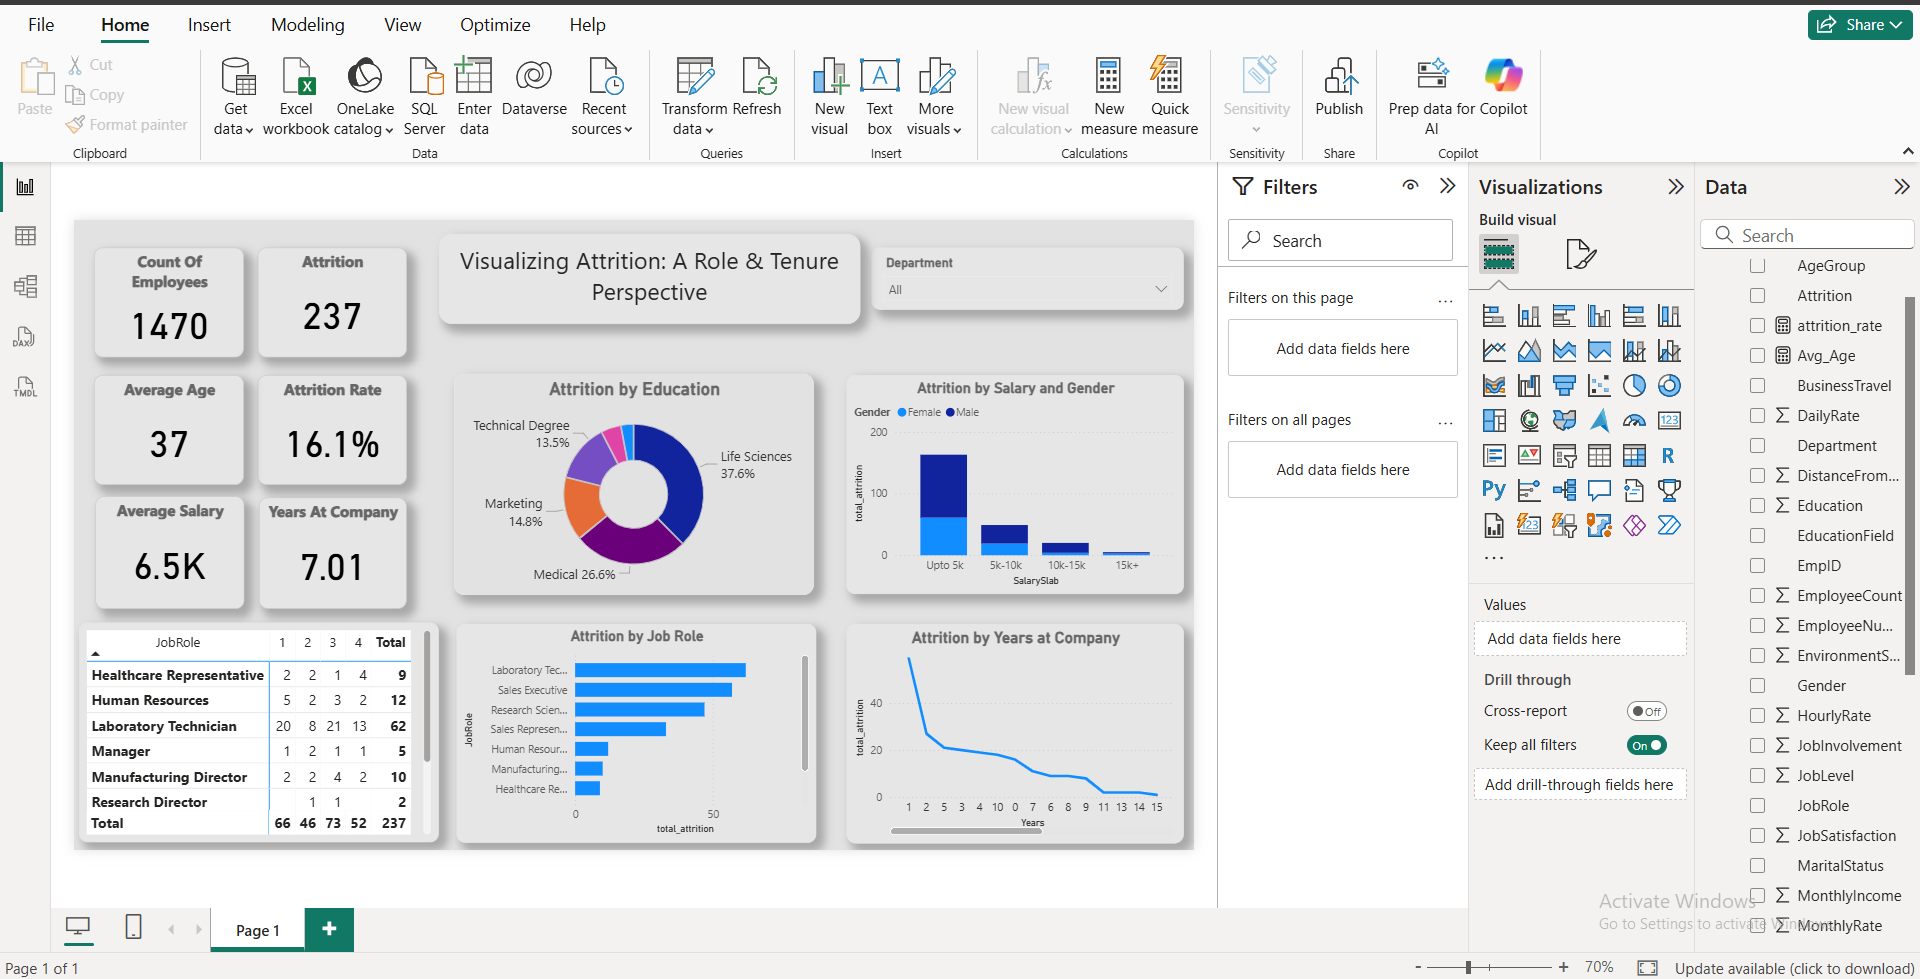

This screenshot's page, from the dashboard's own definition file:
{"tool":"powerbi","page":{"name":"Page 1","canvas":[1280,720],"ordinal":0},"visuals":[{"type":"card","title":"Count Of Employees","fields":{"Values":["Sum(HR_Analytics.EmployeeCount)"]},"box":[22.9,31.4,171.4,125.7],"z":0},{"type":"card","title":"Attrition","fields":{"Values":["HR_Analytics.total_attrition"]},"box":[210,31.4,170,125.7],"z":1000},{"type":"card","title":"Attrition Rate","fields":{"Values":["HR_Analytics.attrition_rate"]},"box":[210,177.1,170,125.7],"z":2000},{"type":"card","title":"Average Age","fields":{"Values":["HR_Analytics.Avg_Age"]},"box":[22.9,177.1,171.4,125.7],"z":3000},{"type":"card","title":"Average Salary","fields":{"Values":["Avg(HR_Analytics.MonthlyIncome)"]},"box":[24.3,315.7,170,128.6],"z":4000},{"type":"card","title":"Years At Company","fields":{"Values":["Avg(HR_Analytics.YearsAtCompany)"]},"box":[211.4,317.1,168.6,127.1],"z":5000},{"type":"donutChart","title":"Attrition by Education","fields":{"Category":["HR_Analytics.EducationField"],"Y":["HR_Analytics.total_attrition"]},"box":[434.3,175.7,411.4,252.9],"z":6000},{"type":"lineChart","title":"Attrition by Years at Company","fields":{"Y":["HR_Analytics.total_attrition"],"Category":["HR_Analytics.YearsAtCompany"]},"box":[882.9,461.4,385.7,251.4],"z":7000},{"type":"pivotTable","fields":{"Rows":["HR_Analytics.JobRole"],"Columns":["HR_Analytics.JobSatisfaction"],"Values":["HR_Analytics.total_attrition"]},"box":[5.7,460,411.4,251.4],"z":9000},{"type":"columnChart","title":"Attrition by Salary and Gender","fields":{"Category":["HR_Analytics.SalarySlab"],"Series":["HR_Analytics.Gender"],"Y":["HR_Analytics.total_attrition"]},"box":[882.9,177.1,385.7,250],"z":10000},{"type":"clusteredBarChart","title":"Attrition by Job Role","fields":{"Category":["HR_Analytics.JobRole"],"Y":["HR_Analytics.total_attrition"]},"box":[437.1,461.4,411.4,250],"z":10001},{"type":"slicer","fields":{"Values":["HR_Analytics.Department"]},"box":[911.4,31.4,357.1,71.4],"z":10002},{"type":"textbox","box":[417.1,15.7,481.4,102.9],"z":10003}]}

Visuals, with their boxes on the page's 1280x720 design canvas (x1, y1, x2, y2). These are canvas units, not pixel positions in the 1920x979 screenshot, which may show the page scaled, cropped or inside an application window:
"Count Of Employees" card: crop(23, 31, 194, 157)
"Attrition" card: crop(210, 31, 380, 157)
"Attrition Rate" card: crop(210, 177, 380, 303)
"Average Age" card: crop(23, 177, 194, 303)
"Average Salary" card: crop(24, 316, 194, 444)
"Years At Company" card: crop(211, 317, 380, 444)
"Attrition by Education" donutChart: crop(434, 176, 846, 429)
"Attrition by Years at Company" lineChart: crop(883, 461, 1269, 713)
pivotTable - HR_Analytics.JobRole x HR_Analytics.JobSatisfaction: crop(6, 460, 417, 711)
"Attrition by Salary and Gender" columnChart: crop(883, 177, 1269, 427)
"Attrition by Job Role" clusteredBarChart: crop(437, 461, 848, 711)
slicer - HR_Analytics.Department: crop(911, 31, 1268, 103)
textbox: crop(417, 16, 898, 119)
